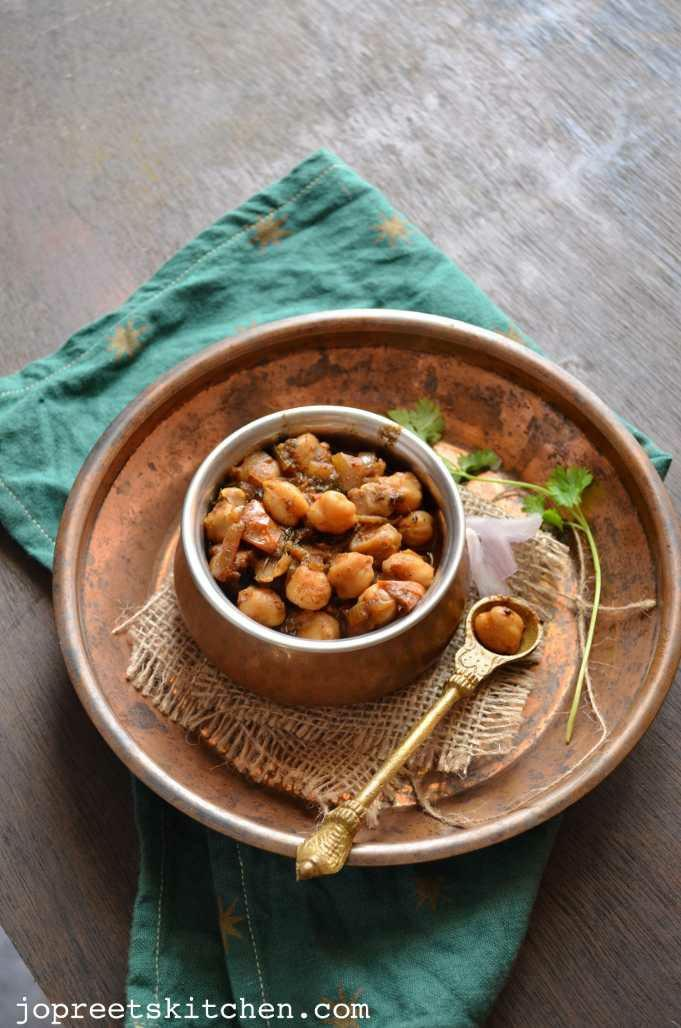Chole: (201, 428, 434, 639)
